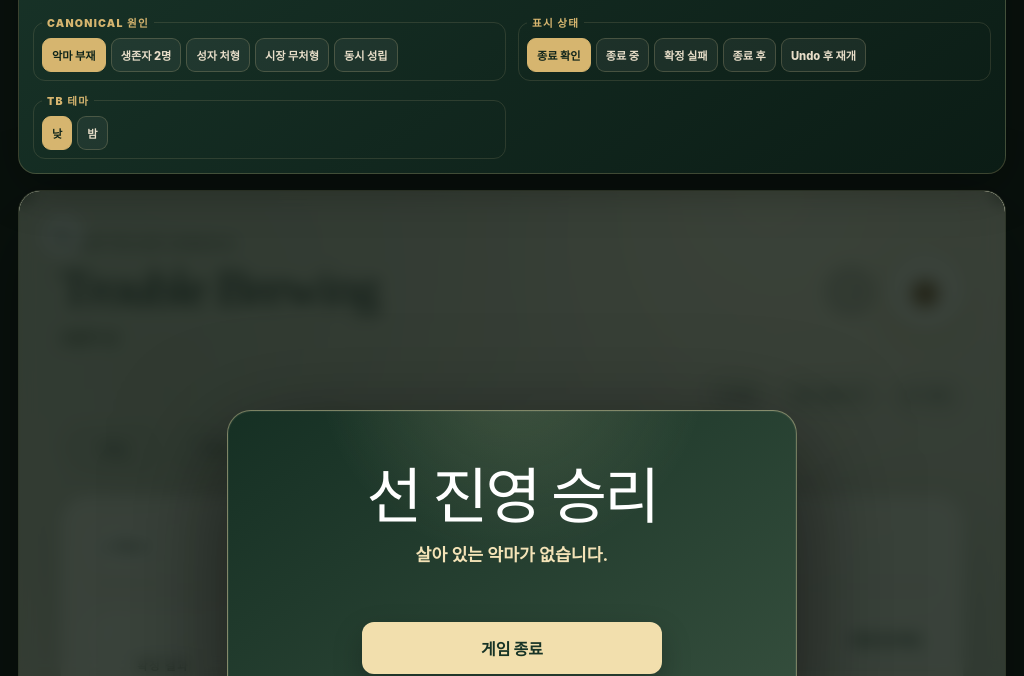
Test case: issue 162 Trouble Brewing game-end prototype › covers pending, busy, error, and read-only ended states without a dedicated Undo
Click the button "종료 중" at (622, 55), box [596,38,649,72]
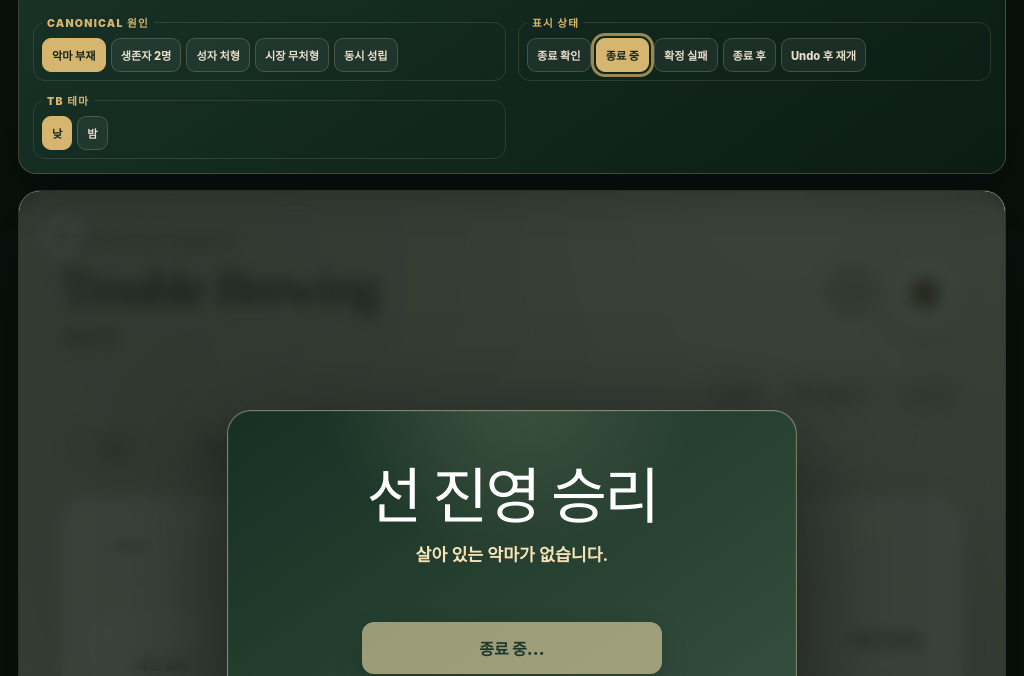
Result: the button "종료 중…" is disabled at [362,622,662,674]
Click the button "확정 실패" at (686, 55), box [654,38,718,72]
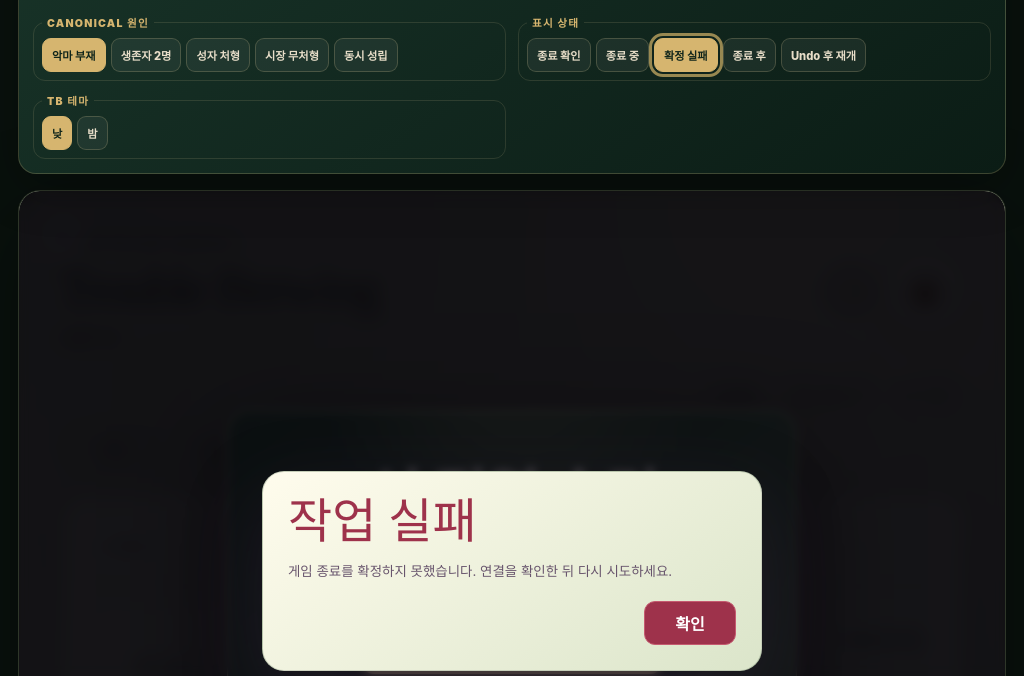
Result: the text "게임 종료를 확정하지 못했습니다. 연결을 확인한 뒤 다시 시도하세요." is shown at [288,560,736,581]
Click the button "확인" at (690, 623), box [644,601,736,645]
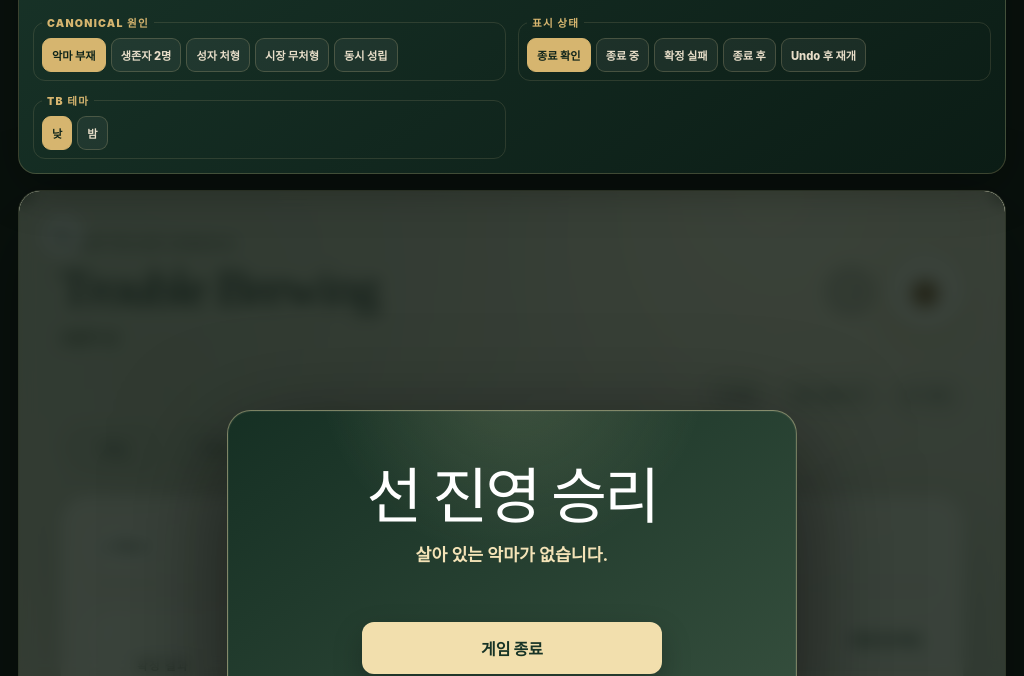
Result: the heading "작업 실패" is gone
Click the button "종료 후" at (749, 55), box [723,38,776,72]
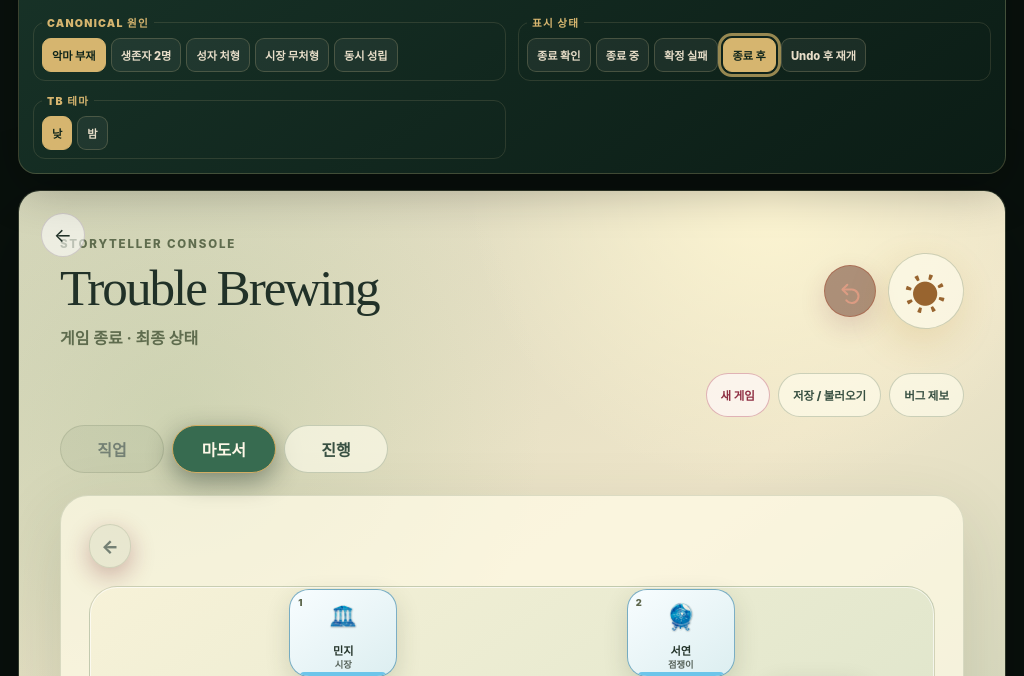
Expected: the dialog "선 진영 승리" is not shown
Result: the button named "Undo" is enabled
Result: the button with aria-label "1번 민지 좌석 선택" is disabled at [289,589,397,675]
Click the button named "Undo" at (850, 291), box [824,265,876,317]
(page scrolled)
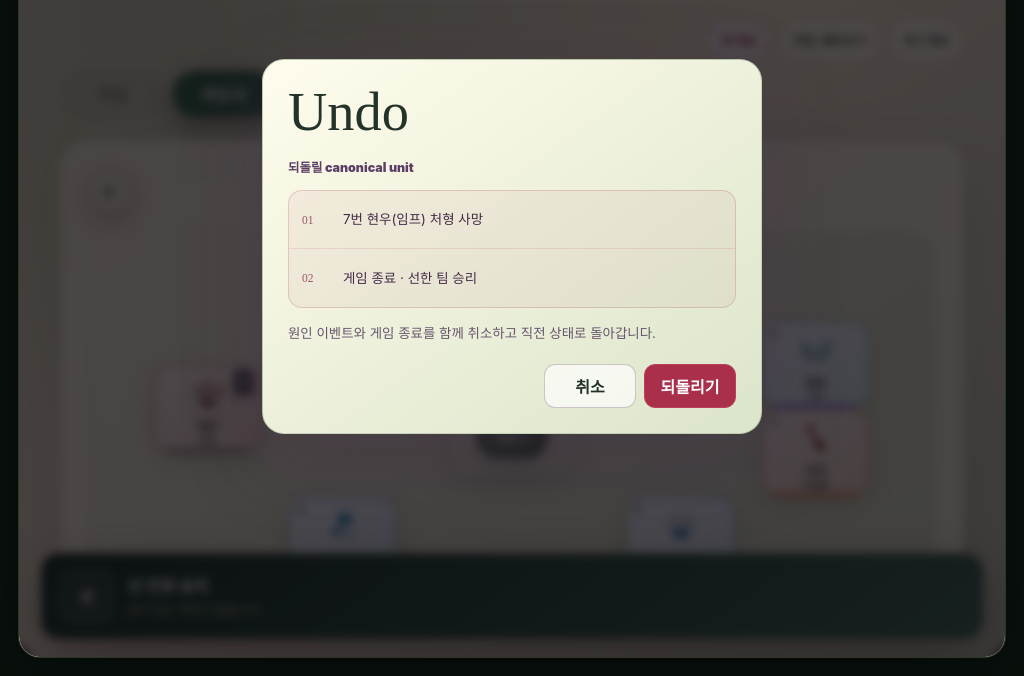
Result: the text "7번 현우(임프) 처형 사망" is shown at [343,211,483,227]
Result: the text "게임 종료 · 선한 팀 승리" is shown at [343,270,477,286]
Click the button "되돌리기" at (690, 386), box [644,364,736,408]
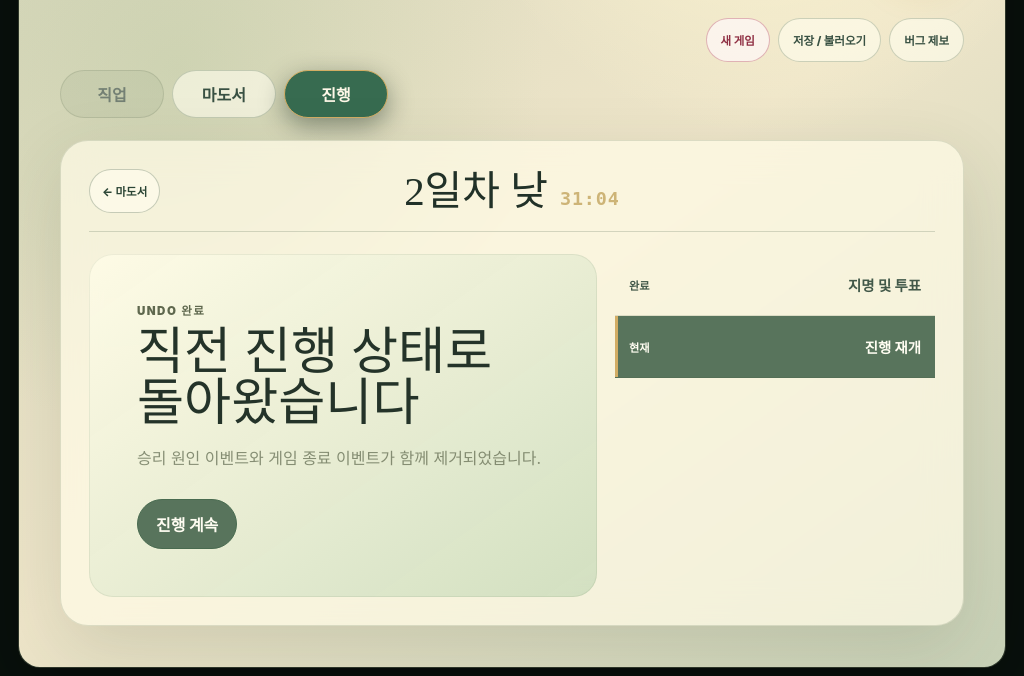
Result: the heading "직전 진행 상태로 돌아왔습니다" is shown at [137,326,549,429]
